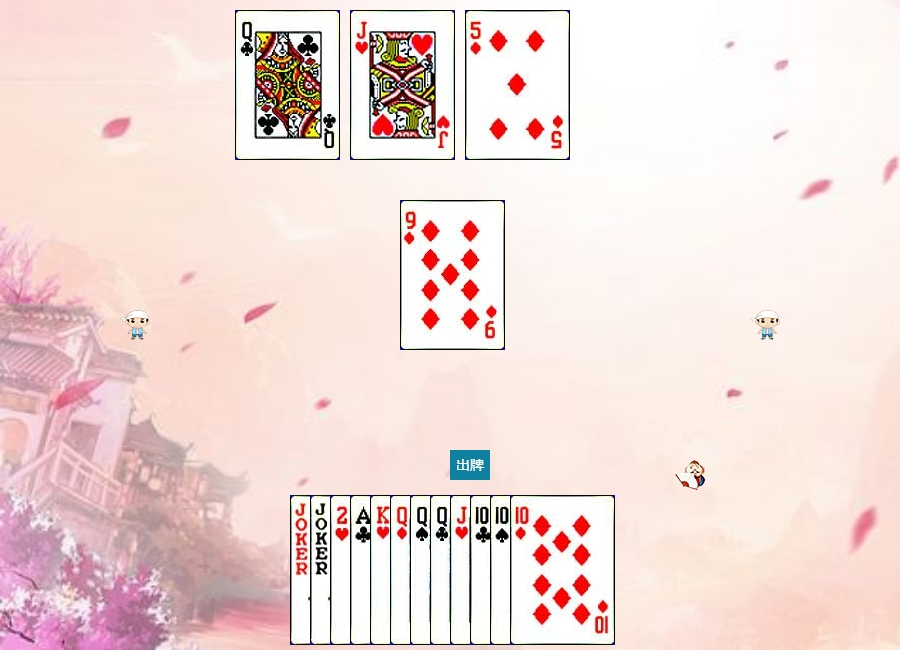10~1: (510, 495, 615, 645)
10~2: (470, 495, 575, 645)
10~4: (490, 495, 595, 645)
11~3: (350, 10, 455, 160), (450, 495, 555, 645)
12~1: (390, 495, 495, 645)
12~2: (235, 10, 340, 160), (430, 495, 535, 645)
12~4: (410, 495, 515, 645)
13~3: (370, 495, 475, 645)
14~2: (350, 495, 455, 645)
15~3: (330, 495, 435, 645)
17~3: (310, 495, 415, 645)
18~4: (290, 495, 395, 645)
5~1: (465, 10, 570, 160)
9~1: (400, 200, 505, 350)
